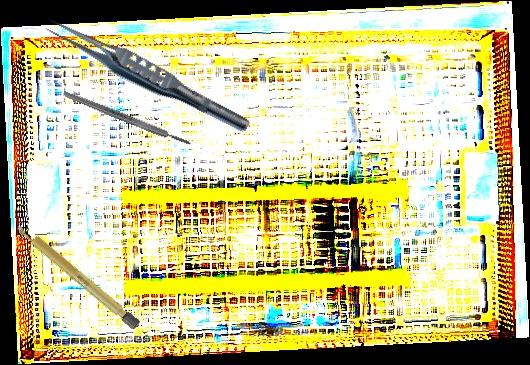Scalpel Handle: (11, 218, 143, 332), (61, 89, 193, 148)
Tissue Forceps: (38, 11, 256, 139)
